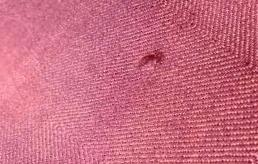knot: (137, 49, 168, 73)
